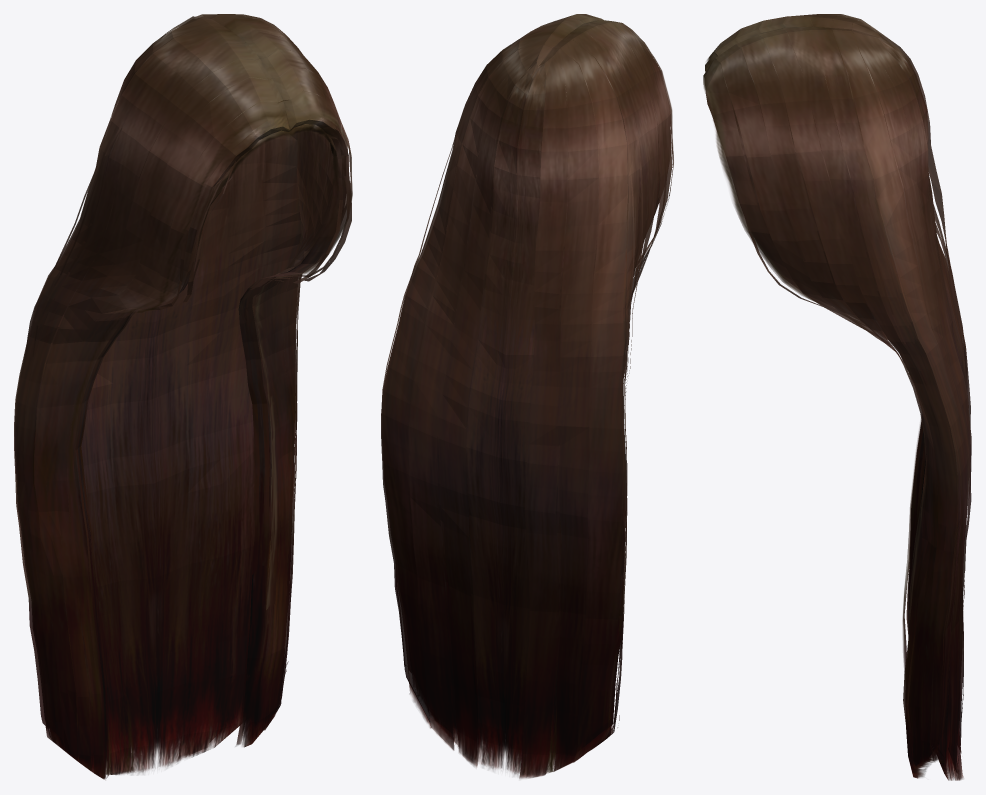
The model's file is u-cut-cc0.glb.
3 renders of one model, left to right at view 1: azimuth 30°, elevation 25°; view 2: azimuth 150°, elevation 25°; view 3: azimuth 270°, elevation 25°, orthographic. The views are drawn at different scales.
Visible parts, largest first — view 1: Node; view 2: Node; view 3: Node.
Boxes of the visible parts, bbox=[...] form: Node: bbox=[14, 14, 352, 779]; Node: bbox=[381, 14, 673, 778]; Node: bbox=[703, 14, 971, 780].
Bounding box in the file's own units: 2.54 × 6.93 × 2.26.
Materials: 1 (1 with a texture image).
